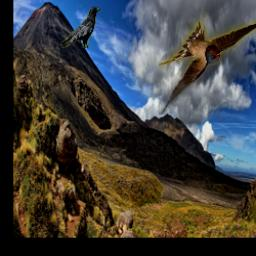Crow: (61, 8, 101, 49)
Swallow: (160, 11, 256, 115)
